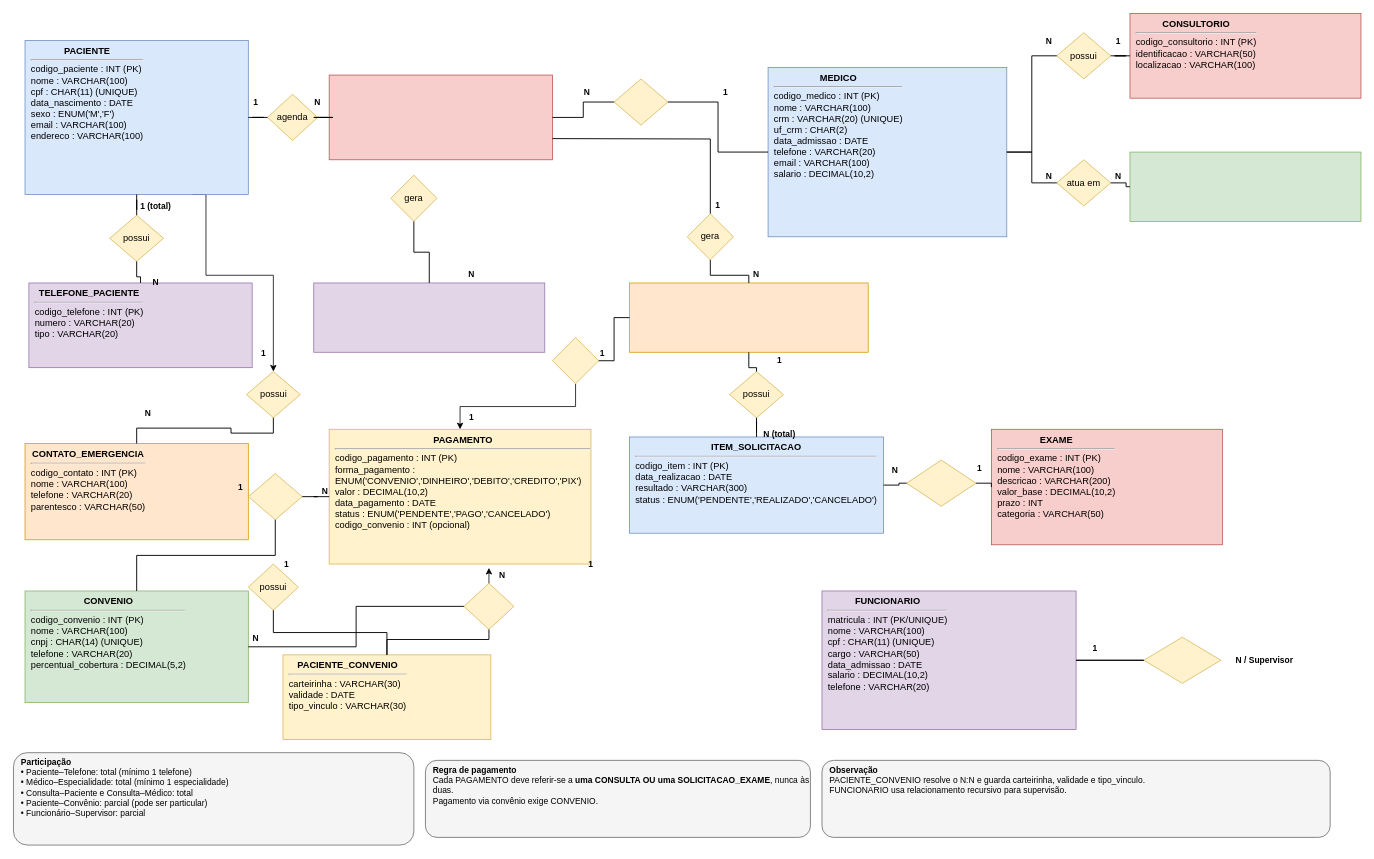
This 1374x859 diagram has some shape labels left out. The centre of each missing label's shape, as x and y in pixels:
CONSULTA codigo_consulta : INT (PK) data : DATE hora : TIME: [440,117]
ESPECIALIDADE codigo_especialidade : INT (PK) nome : VARCHAR(80): [1245,186]
paga: [575,360]
PRESCRICAO codigo_prescricao : INT (PK) descricao : VARCHAR(300): [429,317]
realiza: [640,101]
refere-se a: [941,482]
SOLICITACAO_EXAME codigo_solicitacao : INT (PK) data_solicitacao : DATE: [748,317]
supervisiona: [1182,659]
utiliza: [275,496]
vincula: [488,606]
